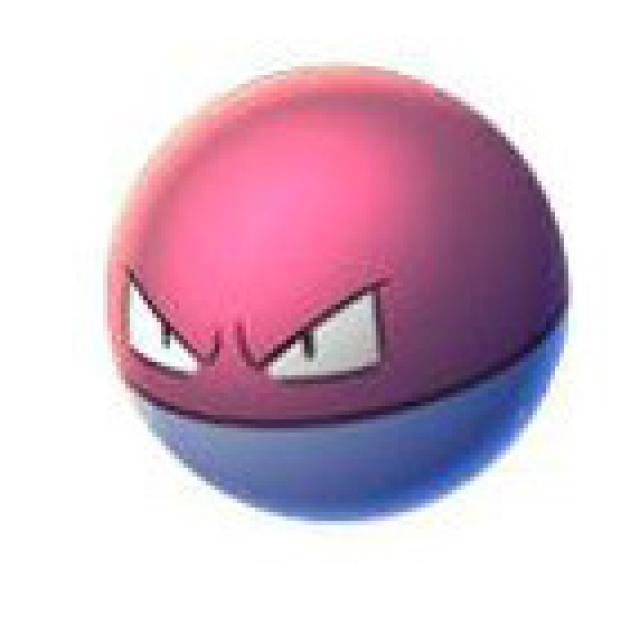Voltorb: (102, 63, 576, 526)
